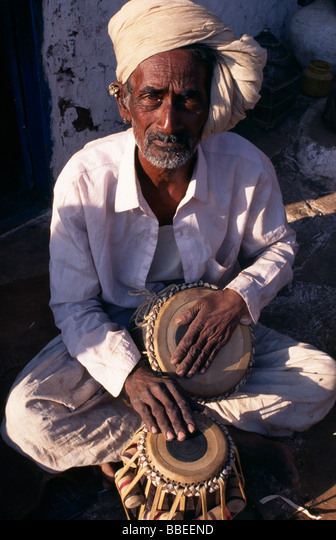tabla: (118, 411, 242, 519), (140, 285, 256, 395)
